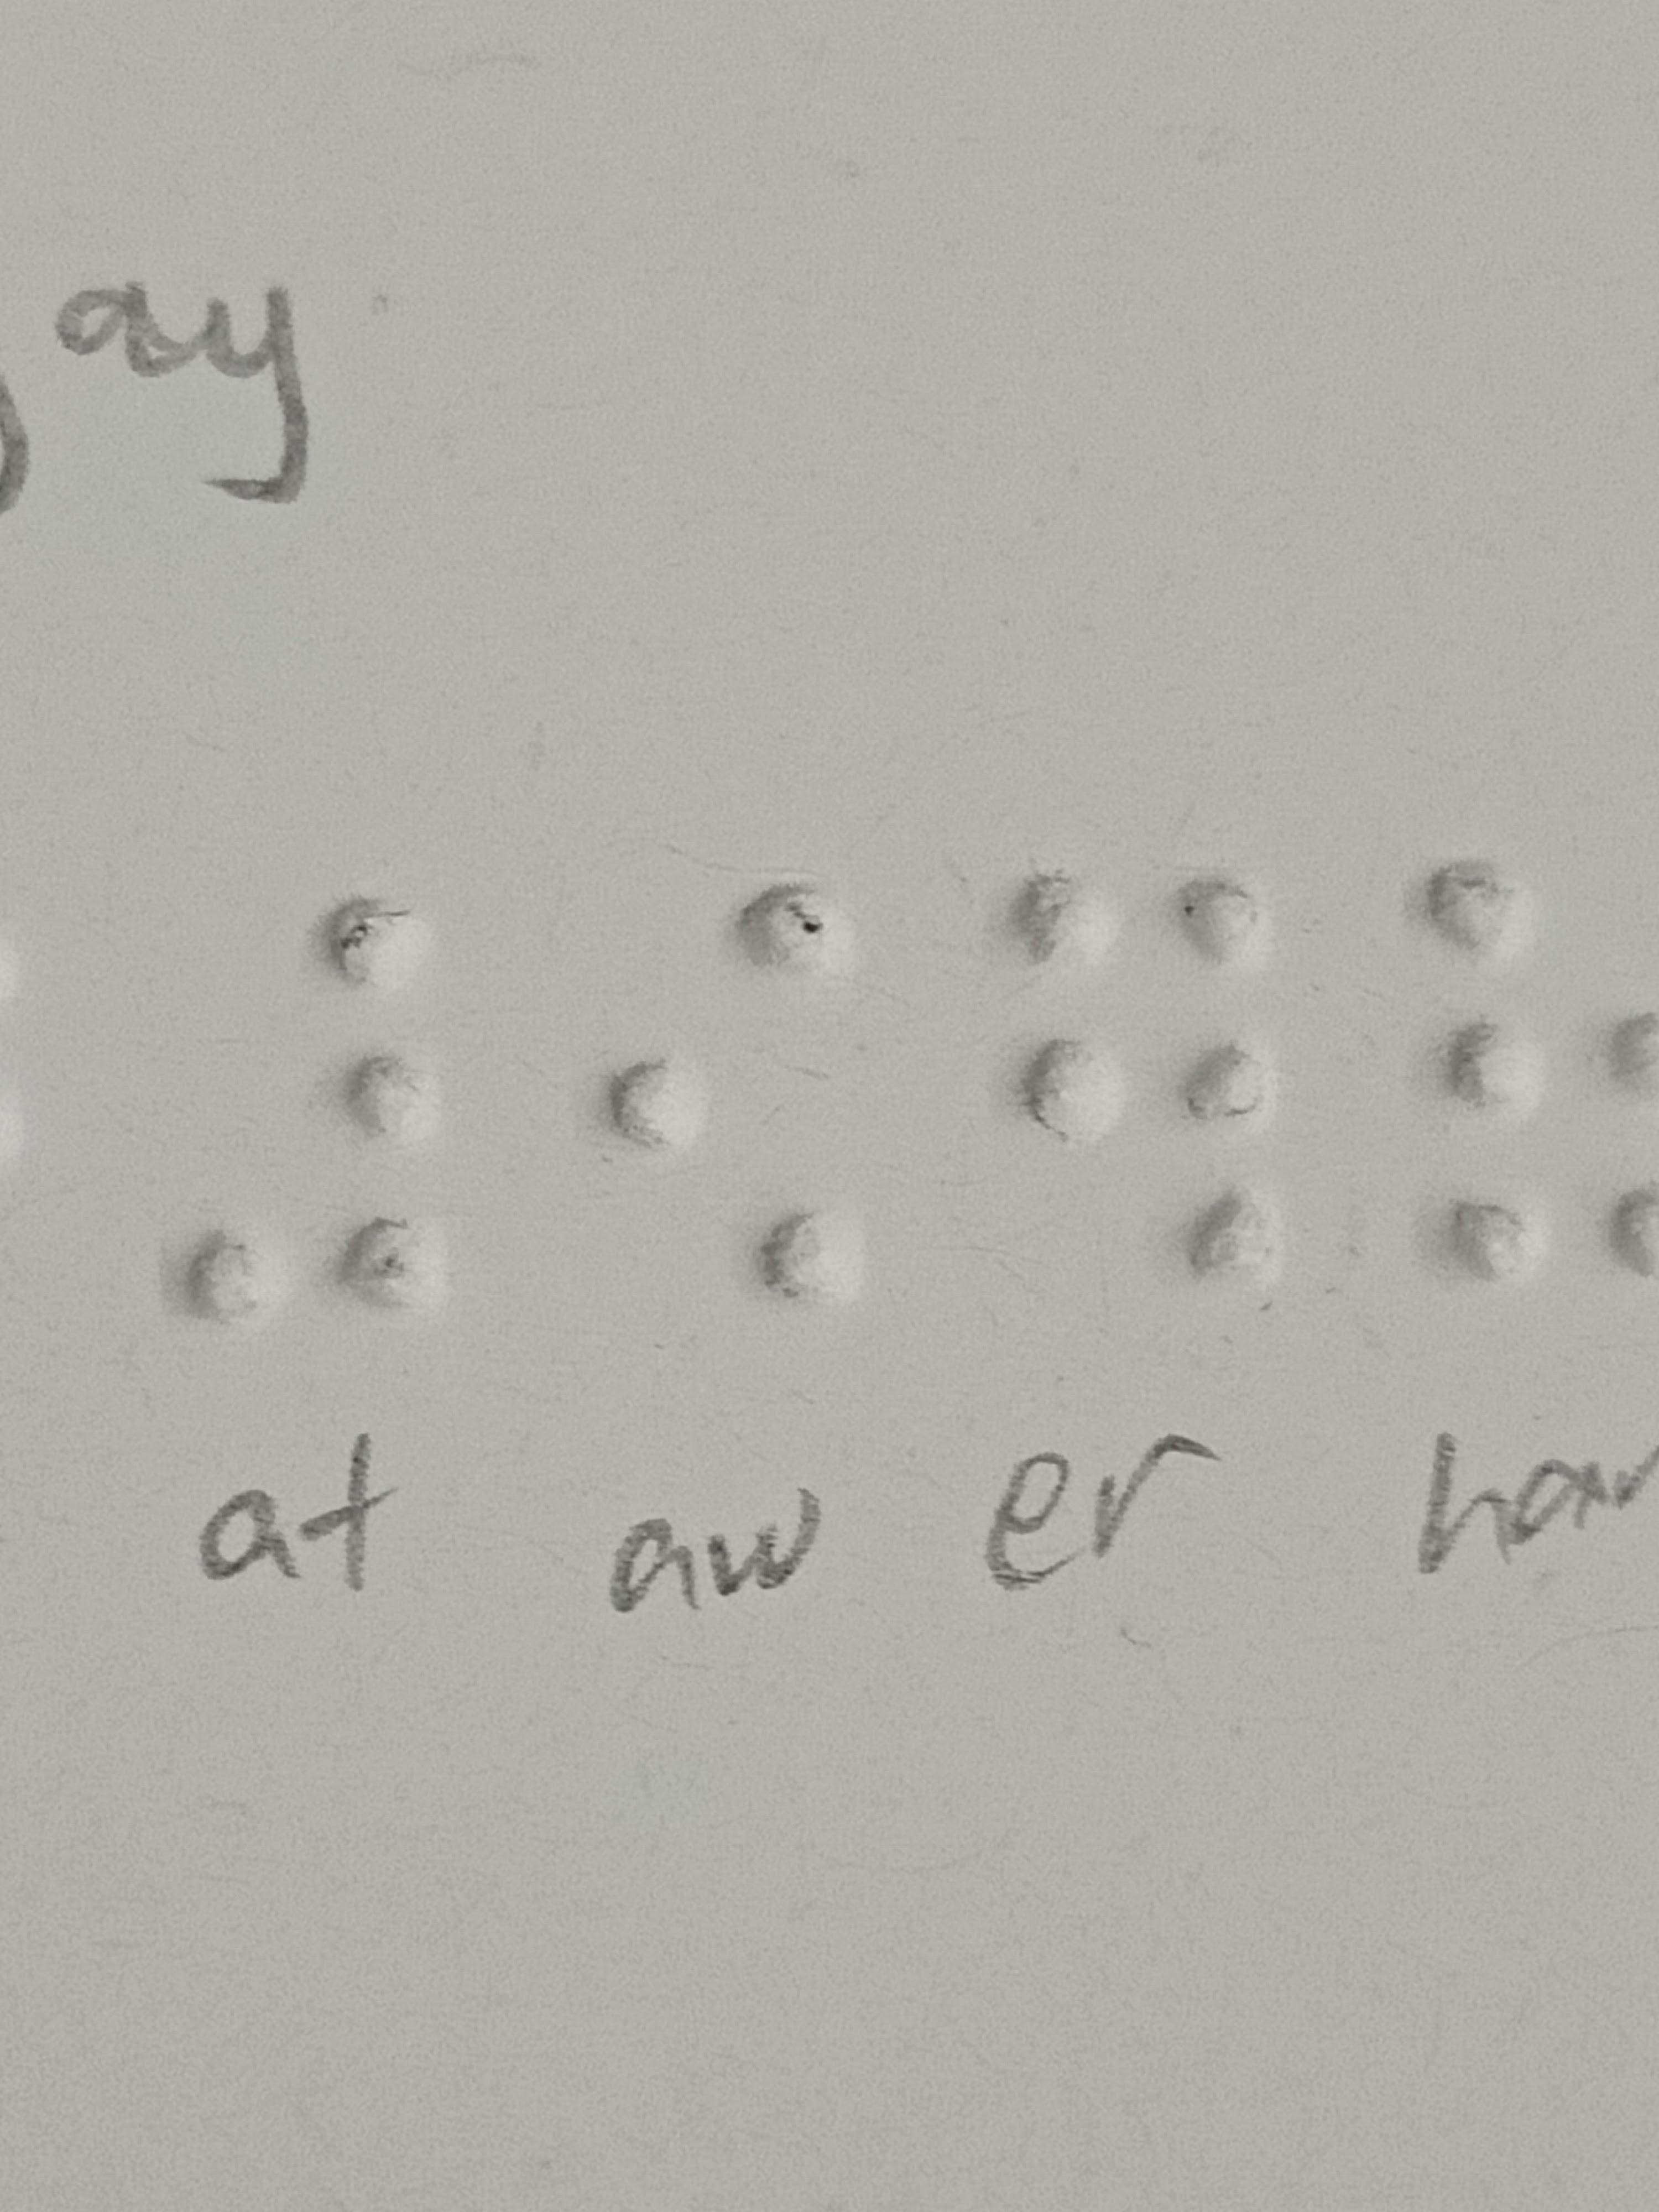one_cell_part_word_at: (173, 887, 443, 1322)
one_cell_part_word_aw: (605, 864, 868, 1325)
one_cell_part_word_er: (1025, 864, 1283, 1313)
